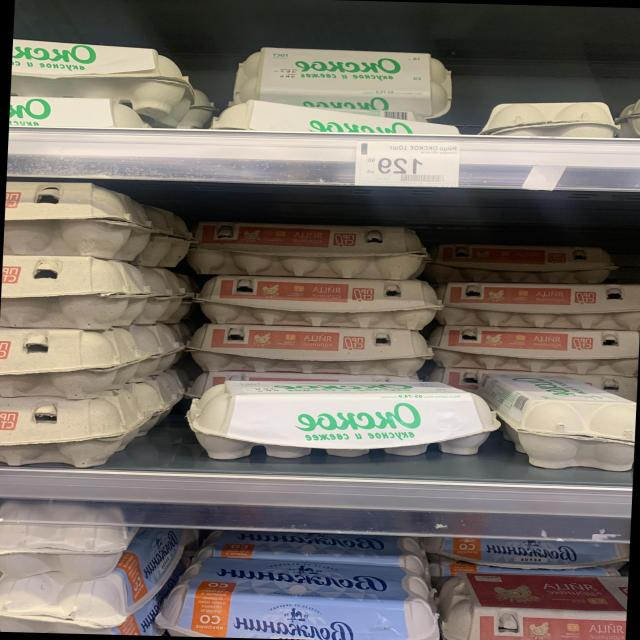organic waste: (185, 375, 498, 467), (230, 40, 459, 116), (10, 36, 204, 118), (183, 220, 432, 277), (185, 323, 435, 378), (190, 274, 440, 329), (440, 278, 640, 334), (437, 322, 639, 377), (0, 500, 135, 578), (0, 569, 131, 635)
